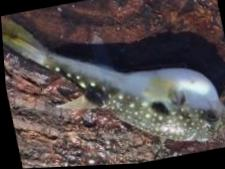fish: (1, 17, 225, 142)
